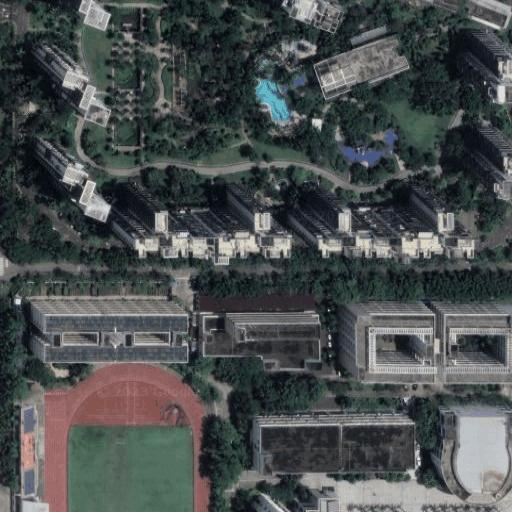building: (338, 298, 507, 369), (248, 411, 403, 461), (28, 300, 172, 349), (432, 403, 508, 492), (197, 313, 313, 367), (313, 35, 408, 98), (288, 184, 444, 222), (105, 182, 261, 219), (29, 132, 77, 190), (30, 37, 77, 95), (198, 295, 315, 313), (455, 0, 512, 32), (15, 403, 33, 491), (462, 126, 506, 161), (455, 28, 499, 63), (274, 0, 334, 22), (348, 26, 390, 51), (289, 490, 330, 512), (249, 495, 285, 512), (16, 496, 44, 512)
